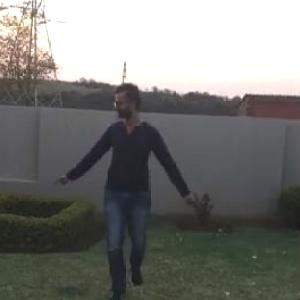land: (48, 77, 216, 299)
